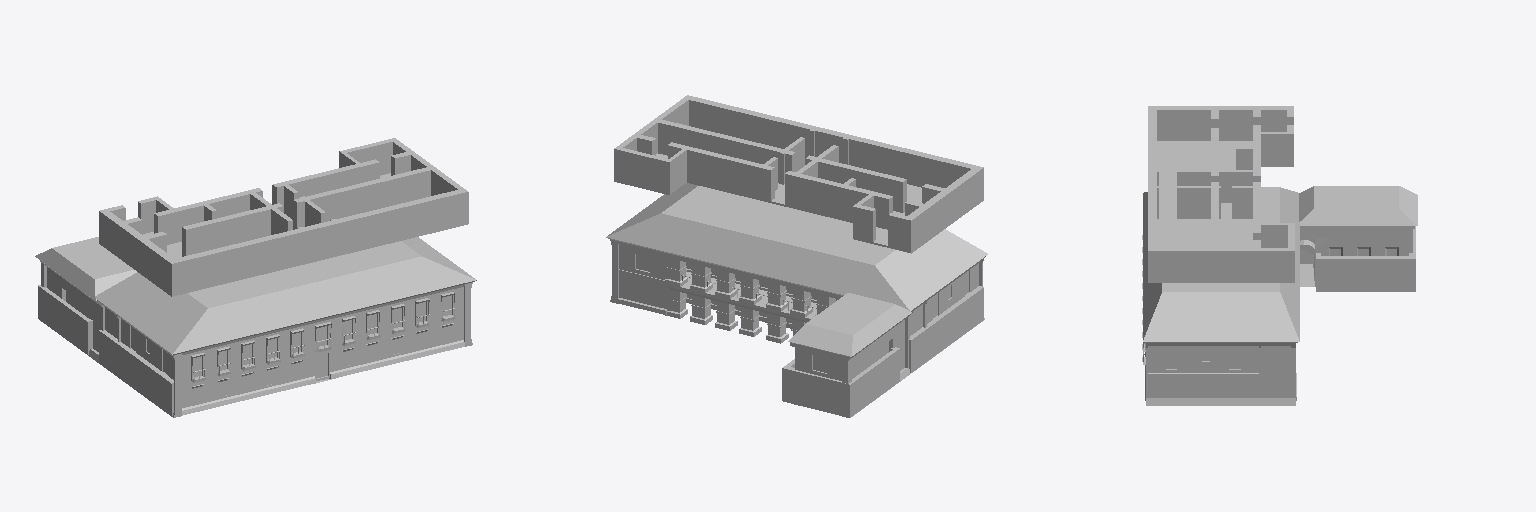
The model's file is Museu.obj.
3 views of the same model, side by side, from view 1: azimuth 30°, elevation 25°; view 2: azimuth 150°, elevation 25°; view 3: azimuth 270°, elevation 25° (orthographic).
Visible parts, largest first — view 1: Cube, Cubo.001_Cubo.002, Cubo, Cubo.002_Cubo.003; view 2: Cube, Cubo.001_Cubo.002, Cubo, Cubo.002_Cubo.003; view 3: Cube, Cubo.001_Cubo.002, Cubo.002_Cubo.003, Cubo.
Boxes of the visible parts, <box> form: Cube: <box>35,237,476,417</box>; Cubo.001_Cubo.002: <box>99,138,468,296</box>; Cubo: <box>99,326,451,415</box>; Cubo.002_Cubo.003: <box>38,285,92,354</box>; Cube: <box>606,183,987,417</box>; Cubo.001_Cubo.002: <box>614,95,983,253</box>; Cubo: <box>619,268,983,372</box>; Cubo.002_Cubo.003: <box>782,347,899,417</box>; Cube: <box>1142,186,1417,405</box>; Cubo.001_Cubo.002: <box>1148,106,1294,282</box>; Cubo.002_Cubo.003: <box>1316,226,1415,291</box>; Cubo: <box>1148,369,1290,397</box>.
Bounding box in the file's own units: 7.95 × 3.83 × 6.21.